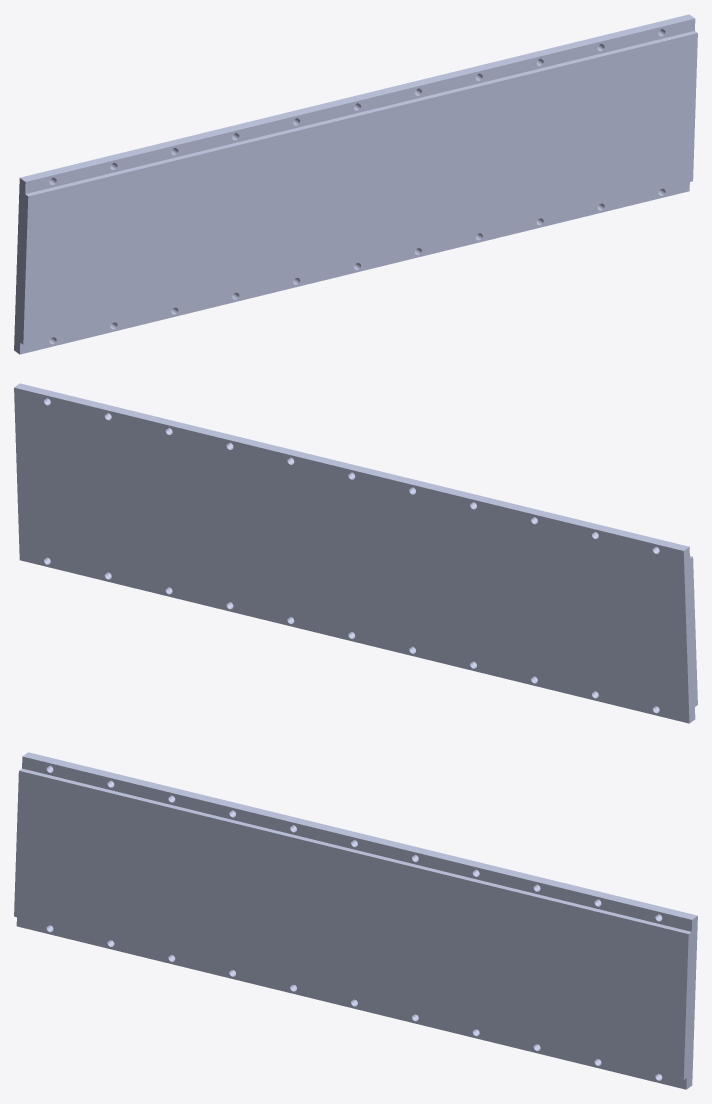
Rendered from MTC-stator.glb.
The picture shows the model from 3 angles, top to bottom: view 1: azimuth 30°, elevation 25°; view 2: azimuth 150°, elevation 25°; view 3: azimuth 330°, elevation 25°; orthographic projection.
Parts seen in each view (by area): view 1: MTC288_node, MTC144_node, MTC96_node; view 2: MTC288_node, MTC144_node, MTC96_node; view 3: MTC288_node, MTC144_node, MTC96_node.
Part boxes in pixels (box(x1,y1,x2,y2)): MTC288_node: box(324, 14, 697, 280); MTC144_node: box(141, 103, 332, 324); MTC96_node: box(14, 148, 149, 354); MTC288_node: box(14, 383, 384, 649); MTC144_node: box(379, 472, 567, 693); MTC96_node: box(562, 517, 697, 723); MTC288_node: box(318, 826, 697, 1089); MTC144_node: box(135, 782, 332, 1000); MTC96_node: box(14, 752, 149, 955).
Size of the model in its own units: 533 by 129 by 12.2.
